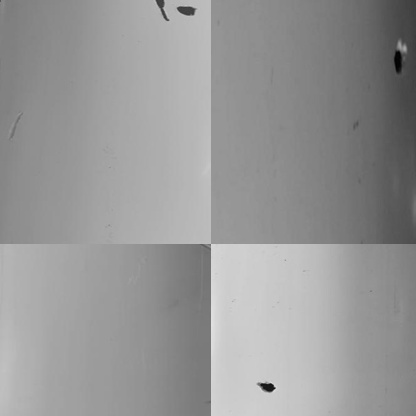kongdong: (389, 40, 408, 76), (254, 376, 281, 394), (175, 1, 197, 19), (152, 1, 170, 21)
